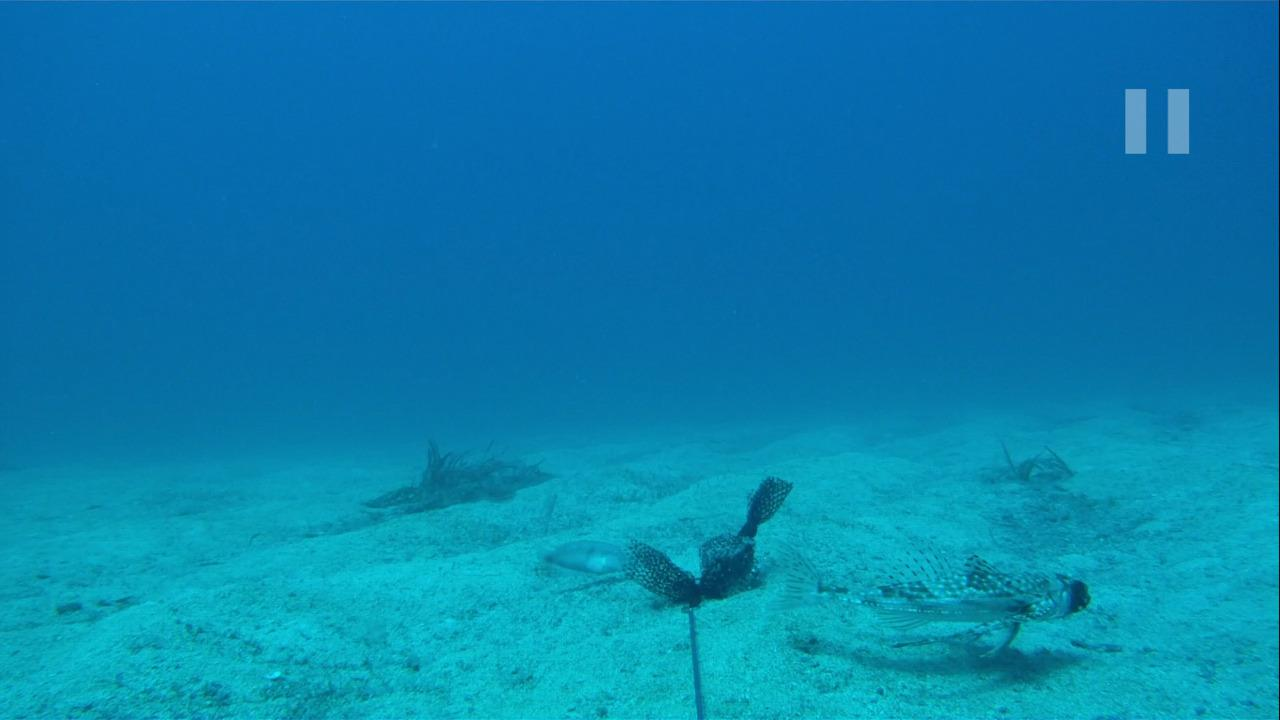dactylopterus: (765, 538, 1092, 660)
raor: (535, 536, 630, 578)
